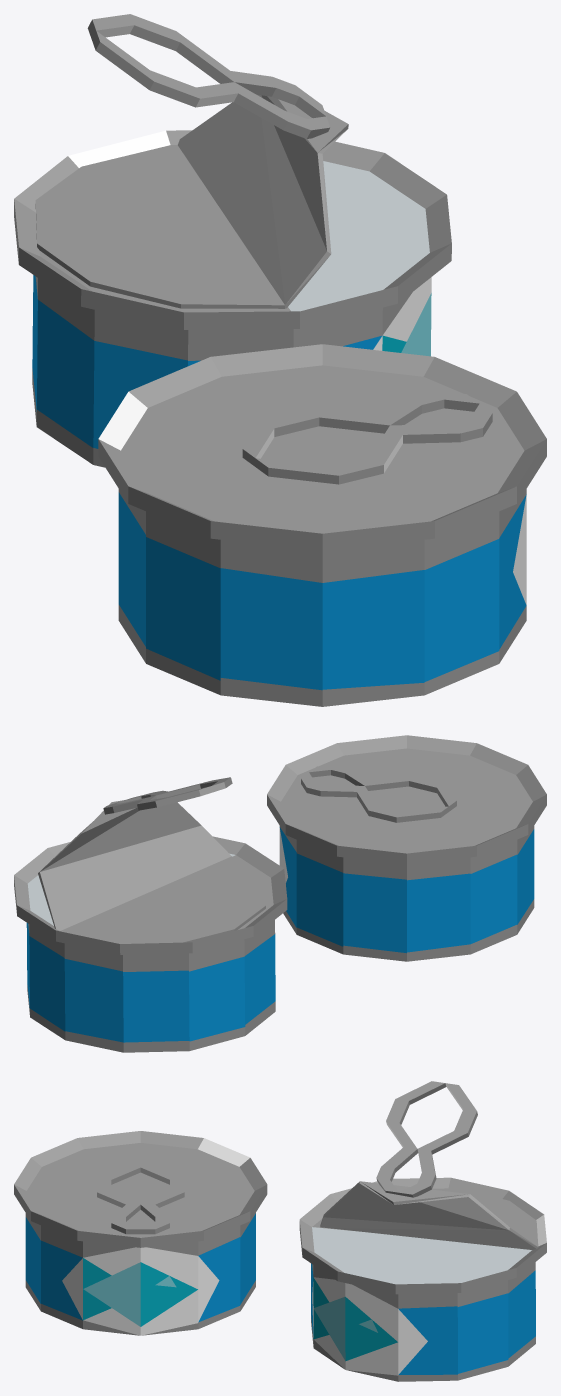
Rendered from tuna.fbx.
3 views of the same model, one above another, from view 1: azimuth 30°, elevation 25°; view 2: azimuth 150°, elevation 25°; view 3: azimuth 270°, elevation 25° (orthographic). The views are drawn at different scales.
Parts seen in each view (by area): view 1: mesh_1343031588, mesh_229140736, mesh_558427750, mesh_1945423103, mesh_1010671563; view 2: mesh_1343031588, mesh_229140736, mesh_558427750, mesh_1945423103, mesh_1010671563; view 3: mesh_1343031588, mesh_229140736, mesh_558427750, mesh_1010671563, mesh_1945423103.
Part boxes in pixels (x1,y1,x2,y2): mesh_1343031588: [98, 344, 546, 706]; mesh_229140736: [14, 130, 451, 467]; mesh_558427750: [35, 94, 348, 308]; mesh_1945423103: [242, 390, 492, 484]; mesh_1010671563: [87, 14, 330, 138]; mesh_1343031588: [267, 735, 546, 961]; mesh_229140736: [14, 836, 287, 1052]; mesh_558427750: [38, 800, 265, 943]; mesh_1945423103: [301, 764, 456, 822]; mesh_1010671563: [103, 777, 232, 814]; mesh_1343031588: [14, 1131, 267, 1335]; mesh_229140736: [299, 1177, 546, 1381]; mesh_558427750: [320, 1181, 538, 1249]; mesh_1010671563: [376, 1081, 477, 1197]; mesh_1945423103: [97, 1167, 184, 1234].
Bounding box in the file's own units: 97.08 × 66.25 × 146.
